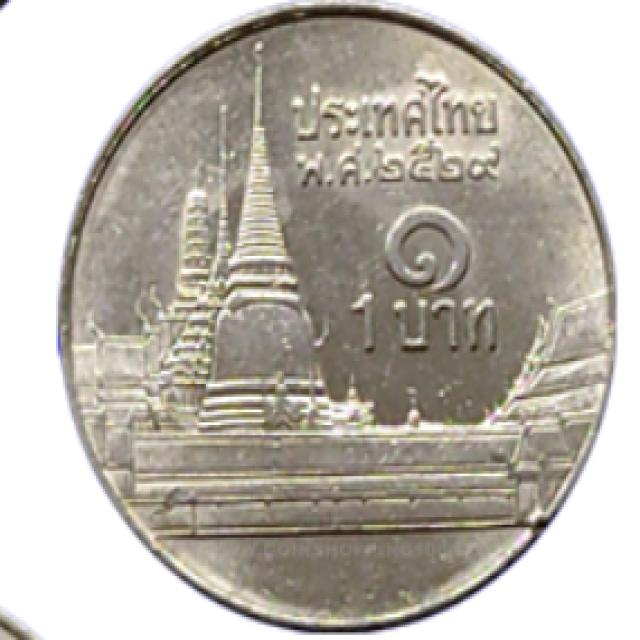1 Bath: (48, 1, 626, 638)
